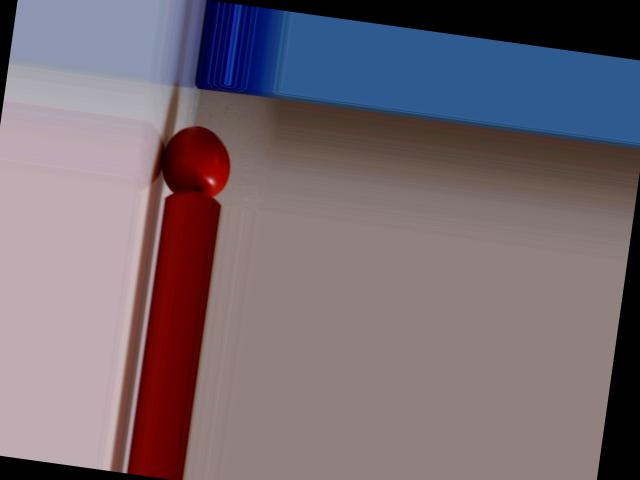tomato: (158, 122, 234, 198)
